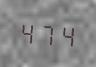four: (18, 18, 36, 46), (57, 20, 75, 48)
seven: (38, 19, 56, 47)
